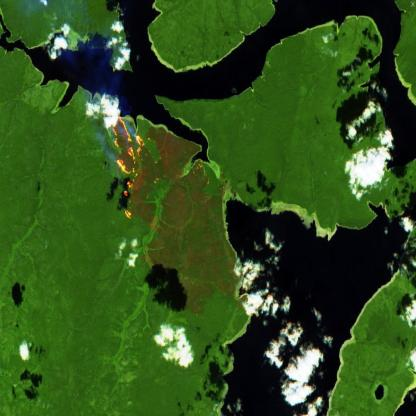fire: (102, 102, 156, 222)
